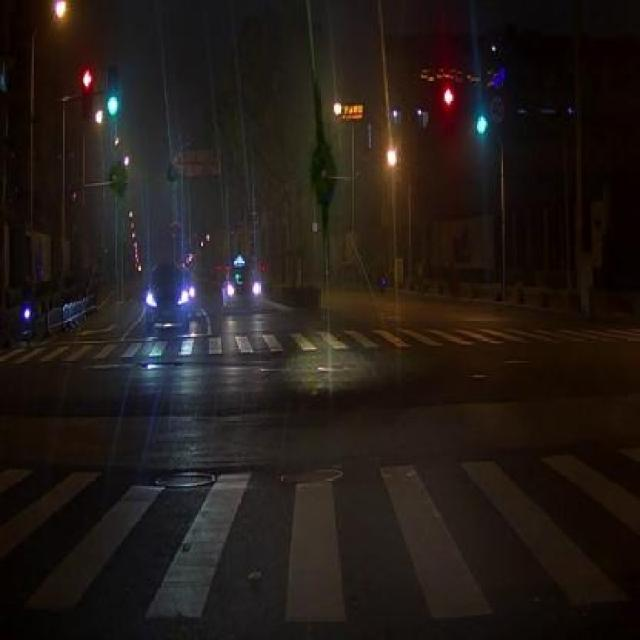forb_speed_over_40: (489, 89, 506, 129)
